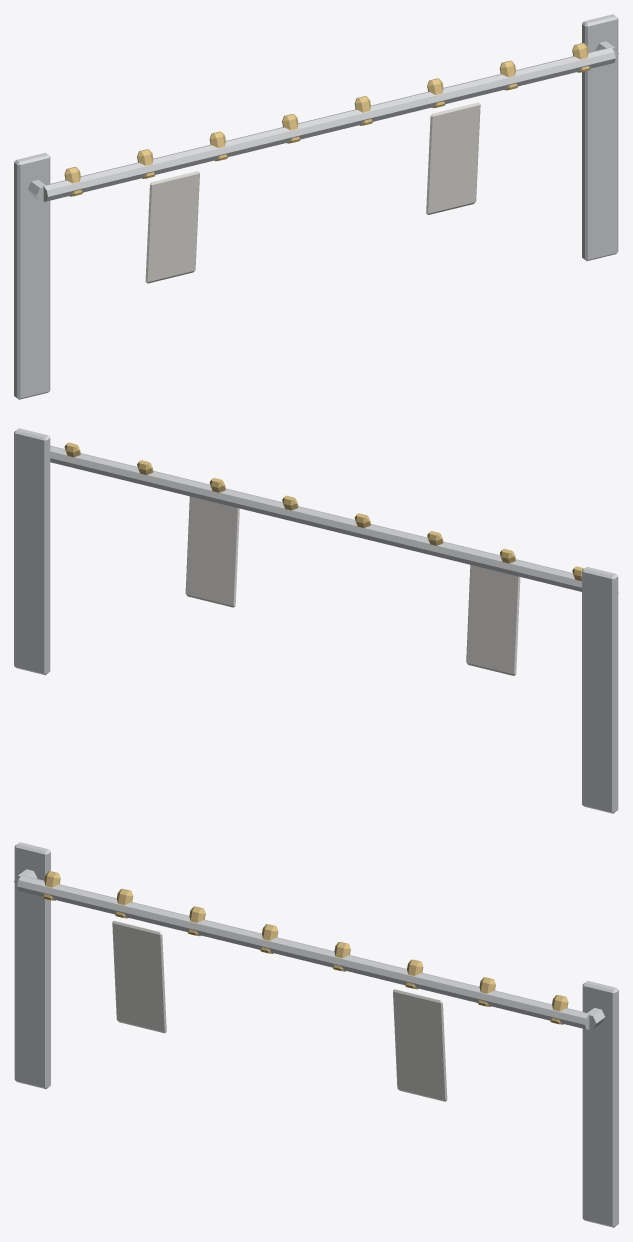
File: restaurant-kitchen-and-dining-ticket-rail-20478431__16483.glb
3 renders of one model, top to bottom at view 1: azimuth 30°, elevation 25°; view 2: azimuth 150°, elevation 25°; view 3: azimuth 330°, elevation 25°, orthographic.
Visible parts, largest first — view 1: ticket-rail; view 2: ticket-rail; view 3: ticket-rail.
Boxes of the visible parts, <box> form: ticket-rail: <box>14,14,618,399</box>; ticket-rail: <box>14,428,618,813</box>; ticket-rail: <box>14,842,618,1227</box>.
Size of the model in its own units: 0.9 by 0.34 by 0.0587.
